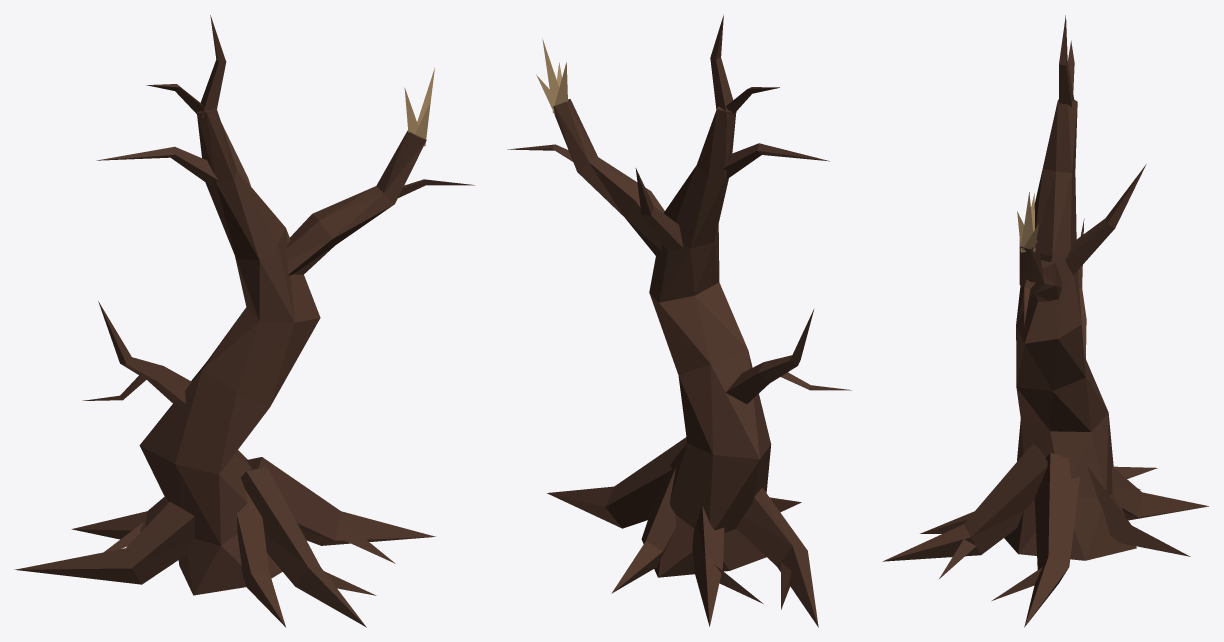
Rendered from FK_DeadTree.fbx.
The picture shows the model from 3 angles, left to right: view 1: azimuth 30°, elevation 25°; view 2: azimuth 150°, elevation 25°; view 3: azimuth 270°, elevation 25°; orthographic projection. The views are drawn at different scales.
Parts seen in each view (by area): view 1: FK_DeadTree_Wood, FK_DeadTree_Splinter; view 2: FK_DeadTree_Wood, FK_DeadTree_Splinter; view 3: FK_DeadTree_Wood, FK_DeadTree_Splinter.
Part boxes in pixels (x1=…): FK_DeadTree_Wood: x1=14, y1=15, x2=474, y2=627; FK_DeadTree_Splinter: x1=404, y1=68, x2=434, y2=146; FK_DeadTree_Wood: x1=507, y1=14, x2=851, y2=627; FK_DeadTree_Splinter: x1=536, y1=38, x2=567, y2=114; FK_DeadTree_Wood: x1=882, y1=15, x2=1208, y2=627; FK_DeadTree_Splinter: x1=1017, y1=192, x2=1038, y2=252.
Bounding box in the file's own units: 16.21 × 22 × 12.55.
